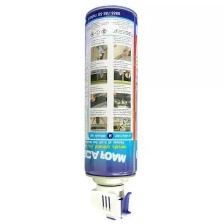aerosol_cans: (80, 3, 142, 222)
